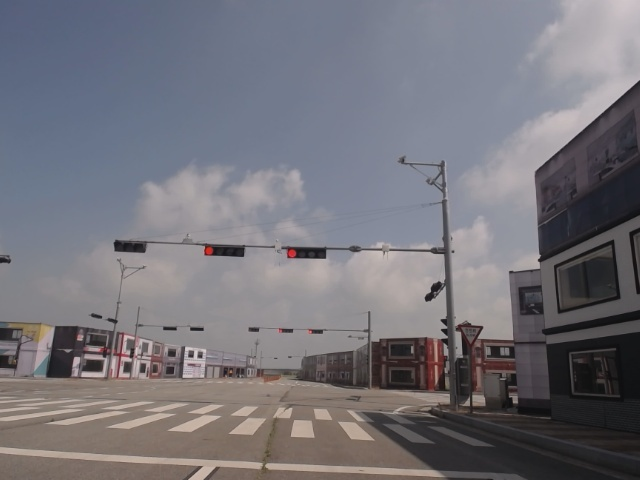red_4: (286, 247, 327, 259), (206, 245, 244, 256)
